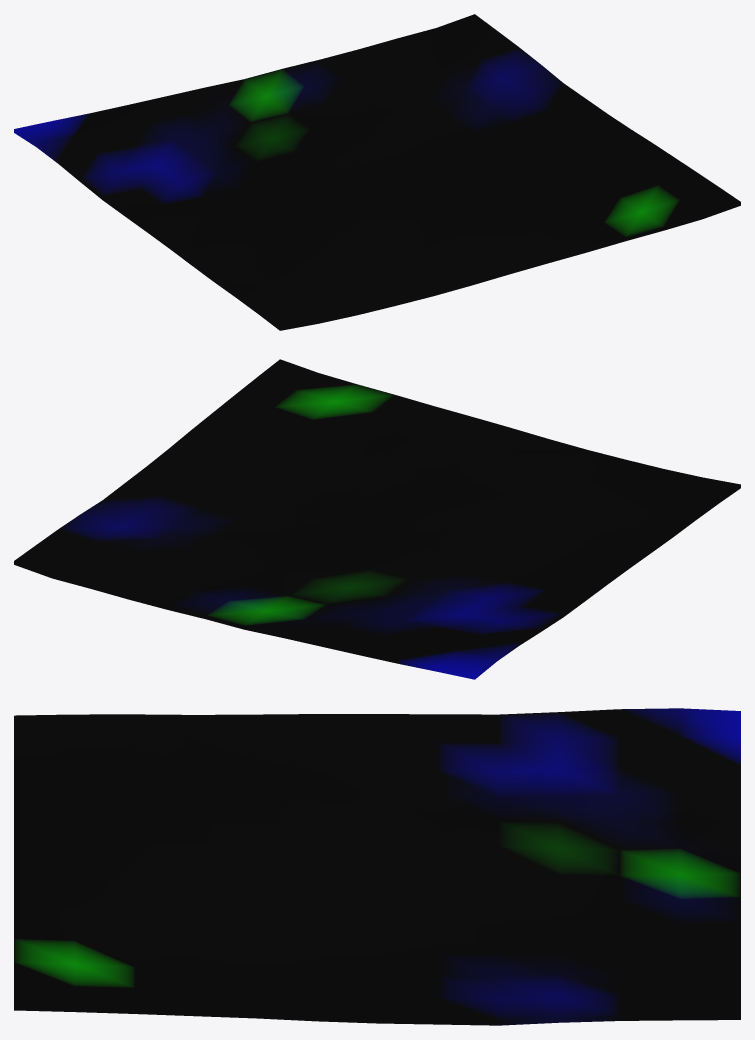
File: coast_1_3.glb
3 views of the same model, one above another, from view 1: azimuth 30°, elevation 25°; view 2: azimuth 150°, elevation 25°; view 3: azimuth 270°, elevation 25° (orthographic). The views are drawn at different scales.
Parts seen in each view (by area): view 1: terrain; view 2: terrain; view 3: terrain.
Boxes of the visible parts, box(x1,y1,x2,y2) form: terrain: box(14, 14, 740, 330); terrain: box(14, 359, 740, 679); terrain: box(14, 708, 740, 1025).
Bounding box in the file's own units: 192 × 7.89 × 192.
